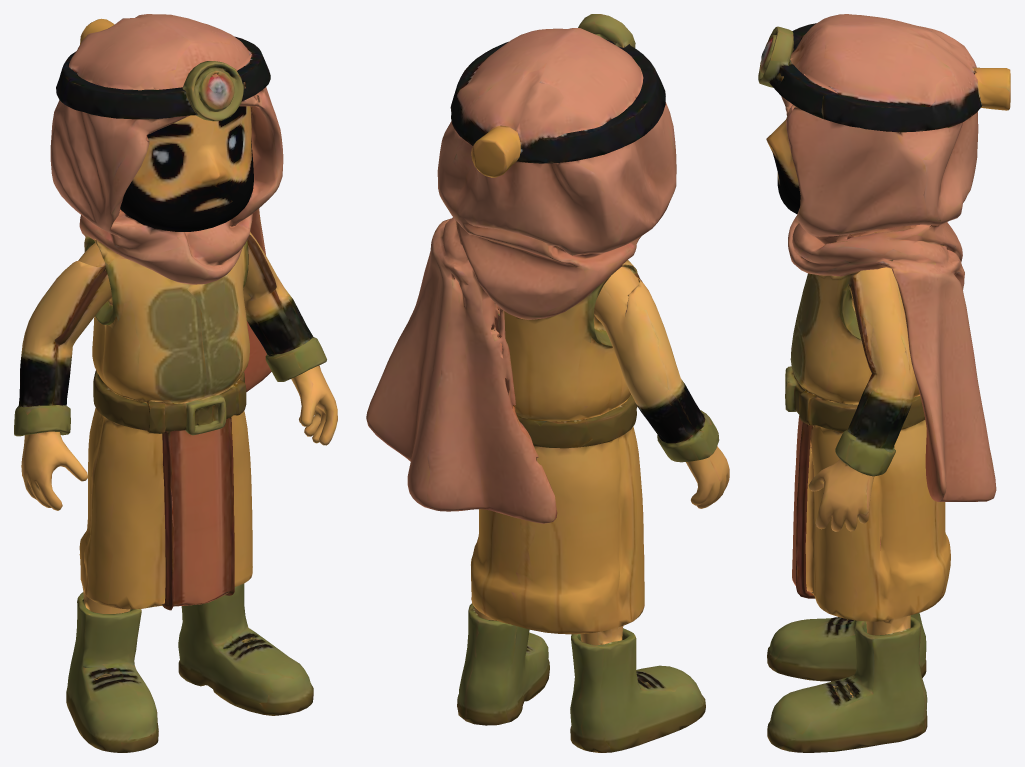
3 views of the same model, side by side, from view 1: azimuth 30°, elevation 25°; view 2: azimuth 150°, elevation 25°; view 3: azimuth 270°, elevation 25° (orthographic).
Parts seen in each view (by area): view 1: world; view 2: world; view 3: world.
Boxes of the visible parts, x1,y1,x2,y2 form: world: (14, 14, 337, 752); world: (366, 14, 729, 752); world: (758, 14, 1010, 752).
Bounding box in the file's own units: 0.4808 × 1 × 0.3389.
1 material, 1 textured.
